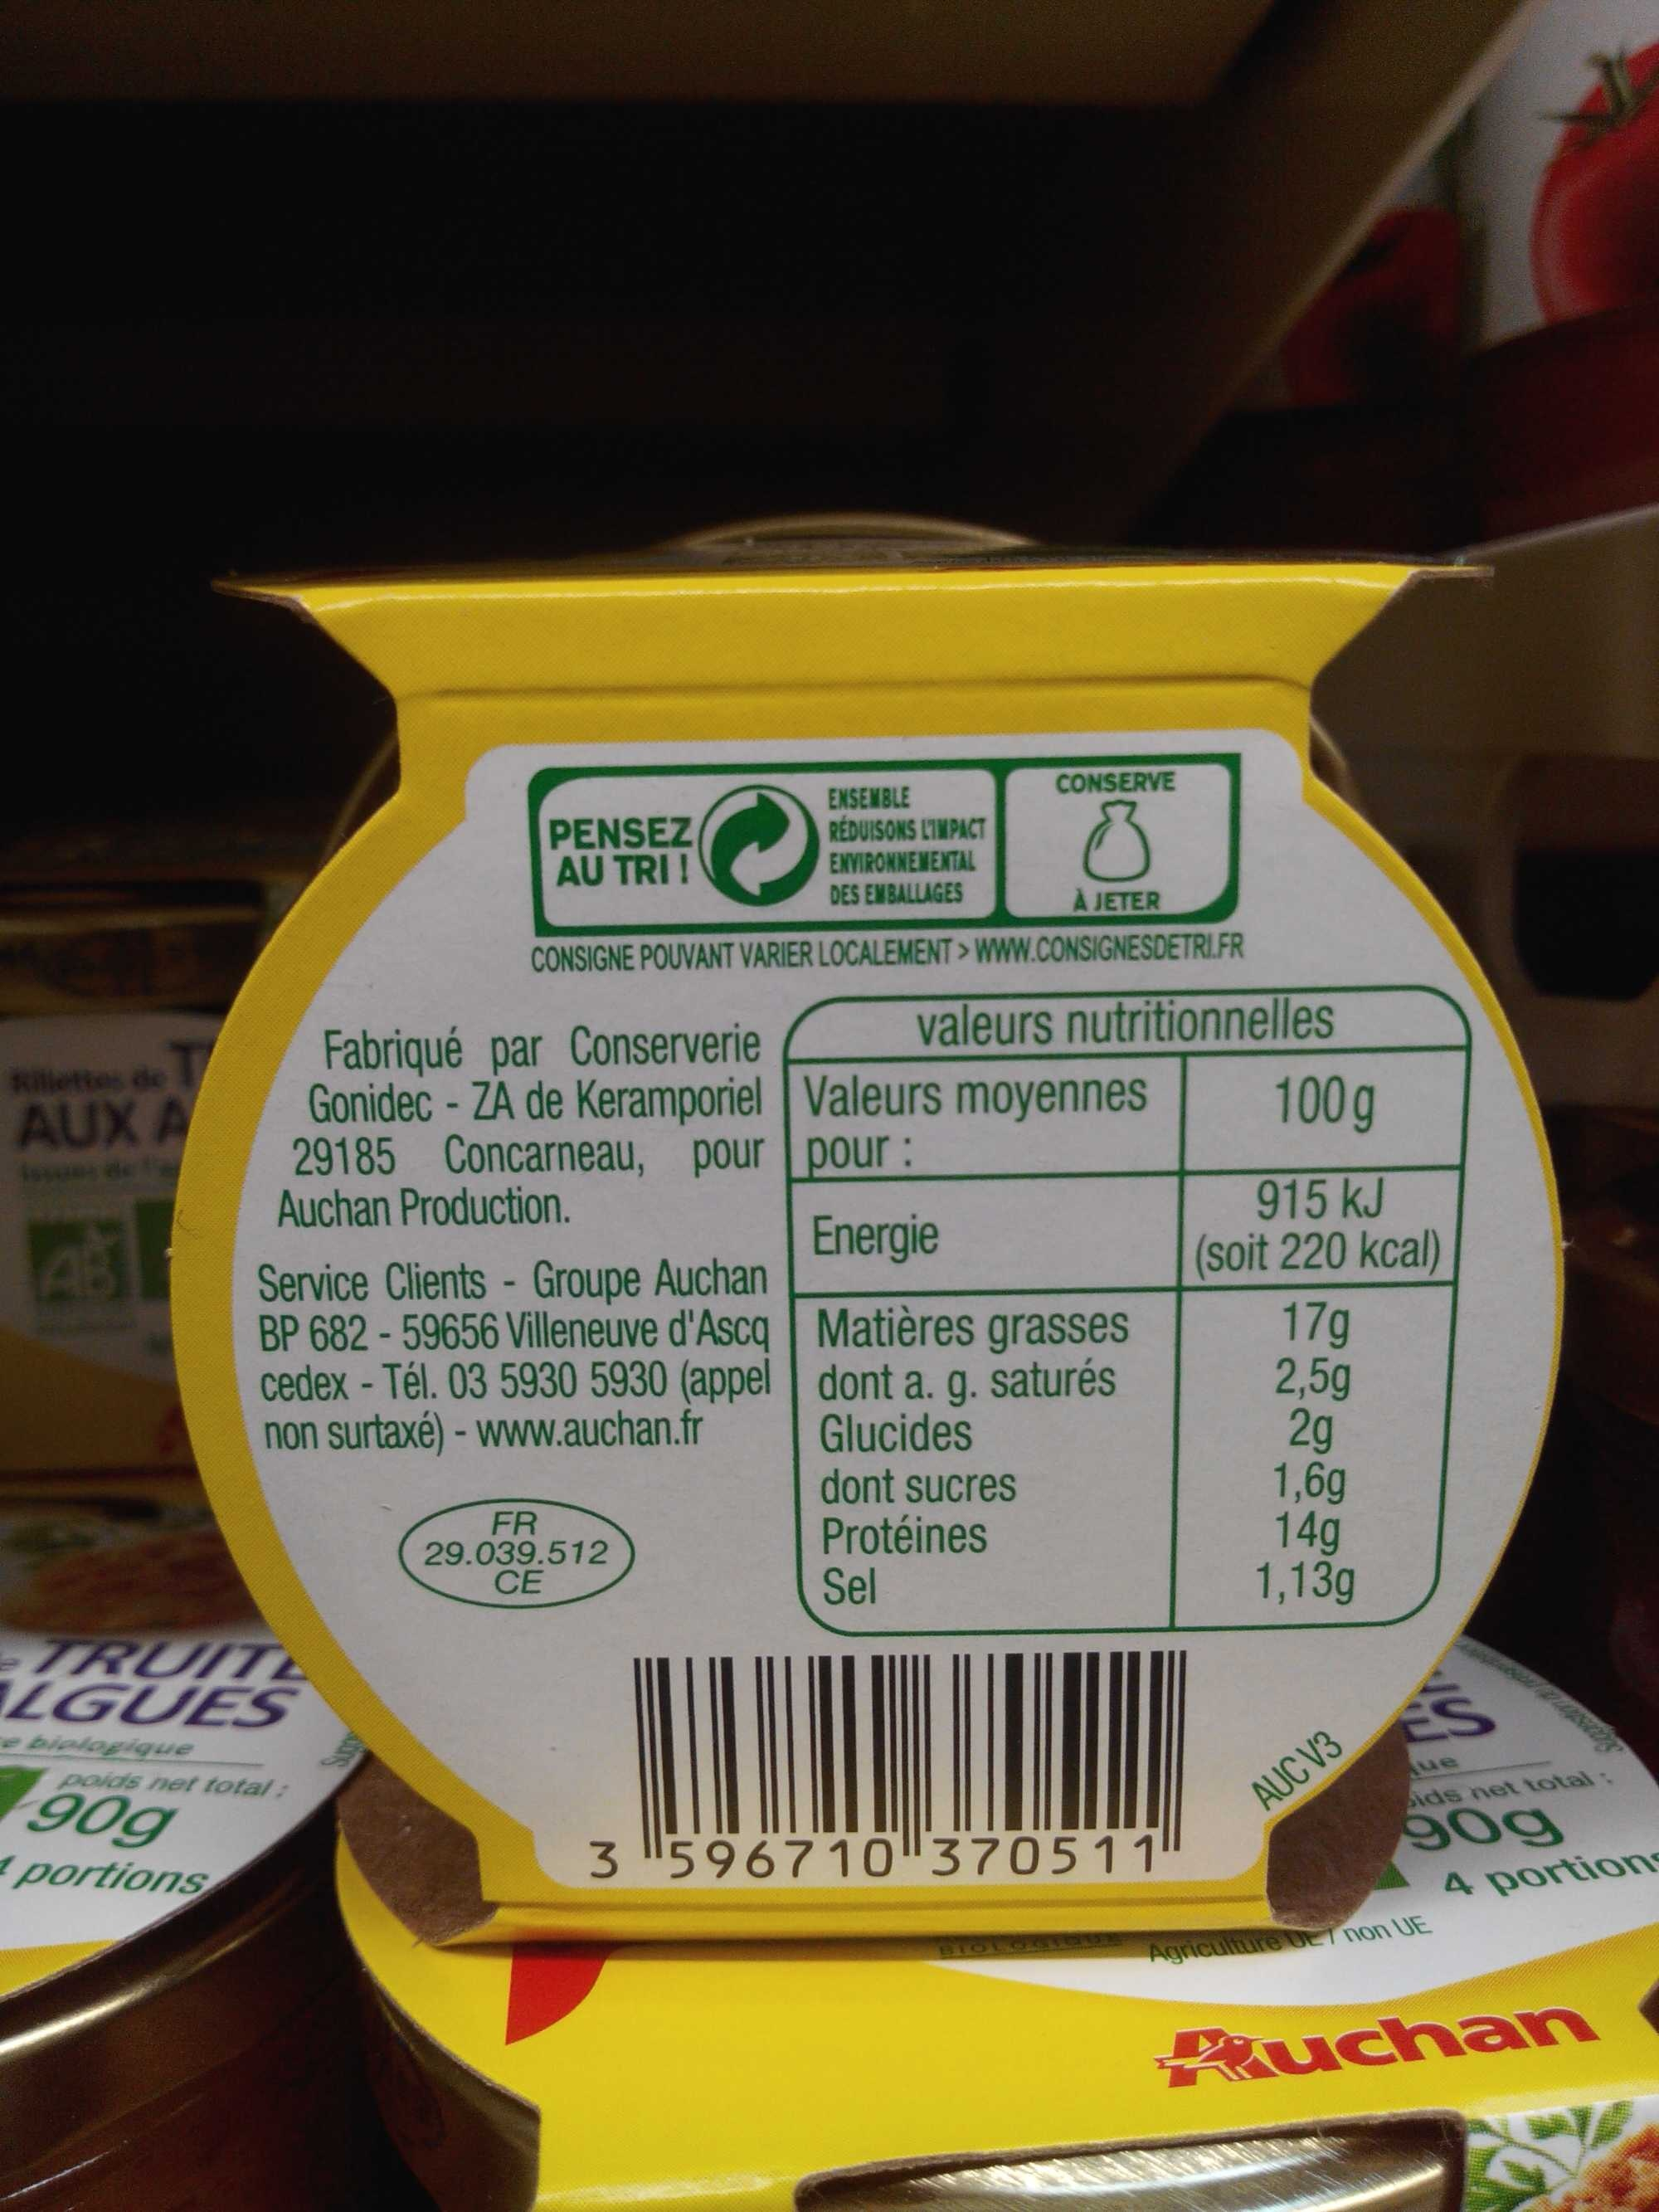column: (795, 1075, 1147, 1625), (1197, 1075, 1445, 1612)
table: (782, 994, 1467, 1630)
